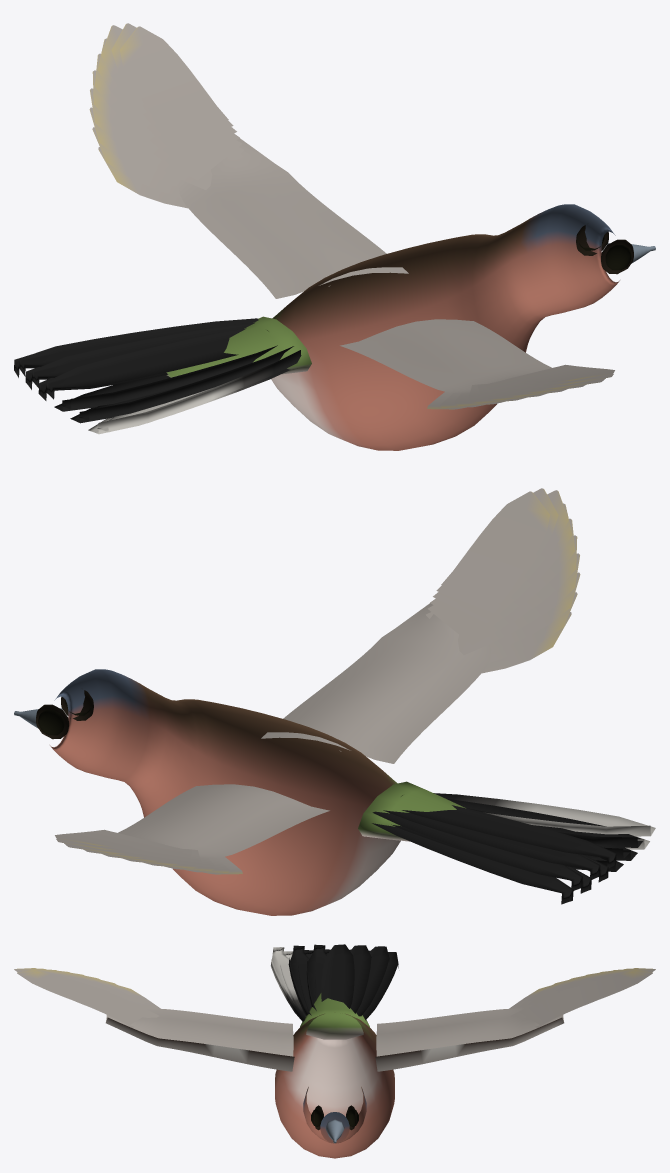
The model's file is SM_Bird_chaffinch_flap1.glb.
3 renders of one model, top to bottom at view 1: azimuth 30°, elevation 25°; view 2: azimuth 150°, elevation 25°; view 3: azimuth 270°, elevation 25°, orthographic. The views are drawn at different scales.
Visible parts, largest first — view 1: SM_Bird_chaffinch_flap1; view 2: SM_Bird_chaffinch_flap1; view 3: SM_Bird_chaffinch_flap1.
Boxes of the visible parts, <box> form: SM_Bird_chaffinch_flap1: <box>14,23,655,450</box>; SM_Bird_chaffinch_flap1: <box>14,488,655,915</box>; SM_Bird_chaffinch_flap1: <box>14,944,655,1158</box>.
Size of the model in its own units: 0.1714 by 0.0711 by 0.241.
